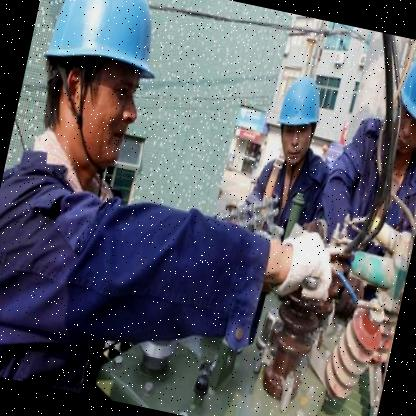capacete: (19, 0, 179, 180), (267, 68, 330, 170), (382, 38, 415, 163)
sem_colete_refletivo: (0, 130, 166, 400), (313, 114, 415, 267), (244, 142, 336, 234)
